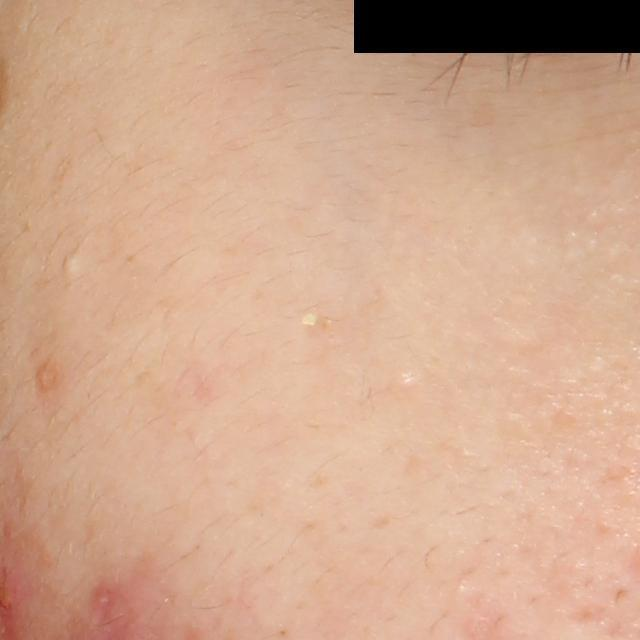comedo: (61, 252, 78, 274), (395, 372, 413, 392)
papule: (0, 561, 27, 631)
